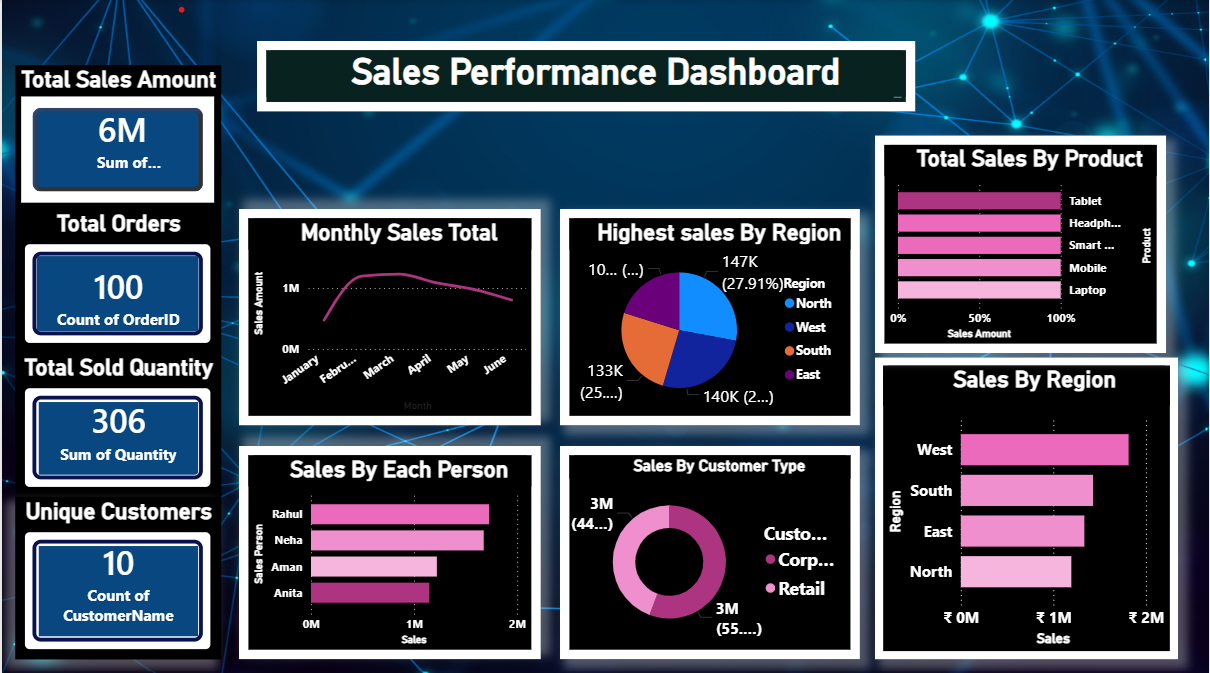

The dashboard page shown, as its layout file describes it:
{"tool":"powerbi","page":{"name":"Beginer Dashbord","canvas":[1280,720],"ordinal":0},"visuals":[{"type":"cardVisual","title":"Total Sales Amount","fields":{"Data":["Sales.SalesAmount"]},"box":[14.3,70,217.9,152.7],"z":0},{"type":"cardVisual","title":"Total Orders","fields":{"Data":["Sales.OrderID"]},"box":[14.3,222.7,217.9,152.7],"z":1000},{"type":"cardVisual","title":"Total Sold Quantity","fields":{"Data":["Sales.Quantity"]},"box":[14.3,375.4,217.9,152.7],"z":2000},{"type":"clusteredBarChart","title":"Sales By Region","fields":{"Category":["Sales.Region"],"Y":["Sales.SalesAmount"]},"box":[925.7,380.2,321.3,319.7],"z":3000},{"type":"pieChart","title":"Highest sales By Region","fields":{"Category":["Sales.Region"],"Y":["Sales.SalesAmount"]},"box":[591.7,222.7,318.1,229],"z":4000},{"type":"hundredPercentStackedBarChart","title":"Total Sales By Product","fields":{"Category":["Products.ProductName"],"Y":["Sales.SalesAmount"]},"box":[925.7,144.7,308.6,230.6],"z":5000},{"type":"cardVisual","title":"Unique Customers","fields":{"Data":["Customers.CustomerName"]},"box":[14.3,528.1,217.9,172],"z":6000},{"type":"donutChart","title":"Sales By Customer Type","fields":{"Y":["Sales.SalesAmount"],"Category":["Customers.CustomerType"]},"box":[591.7,474,318.1,225.9],"z":7000},{"type":"barChart","title":"Sales By Each Person","fields":{"Y":["Sales.SalesAmount"],"Category":["Sales.Salesperson"]},"box":[251.3,474,319.7,225.9],"z":8000},{"type":"lineChart","title":"Monthly Sales Total","fields":{"Y":["Sales.SalesAmount"],"Category":["Sales.OrderDate.Variation.Date Hierarchy.Month"]},"box":[251.3,222.7,319.7,229],"z":9000},{"type":"textbox","title":"Sales Performance Dashboard","box":[270.4,44.5,698.3,74.8],"z":9001}]}

Visuals, with their boxes in screenshot pixels (x1, y1, x2, y2), scaled from the page's 1280x720 canvas onto the 1210x673 screenshot:
"Total Sales Amount" cardVisual: 14 65 220 208
"Total Orders" cardVisual: 14 208 220 351
"Total Sold Quantity" cardVisual: 14 351 220 494
"Sales By Region" clusteredBarChart: 875 355 1179 654
"Highest sales By Region" pieChart: 559 208 860 422
"Total Sales By Product" hundredPercentStackedBarChart: 875 135 1167 351
"Unique Customers" cardVisual: 14 494 220 654
"Sales By Customer Type" donutChart: 559 443 860 654
"Sales By Each Person" barChart: 238 443 540 654
"Monthly Sales Total" lineChart: 238 208 540 422
"Sales Performance Dashboard" textbox: 256 42 916 112
